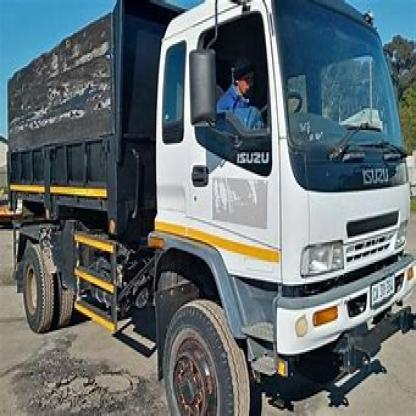dump_truck: (2, 6, 413, 410)
